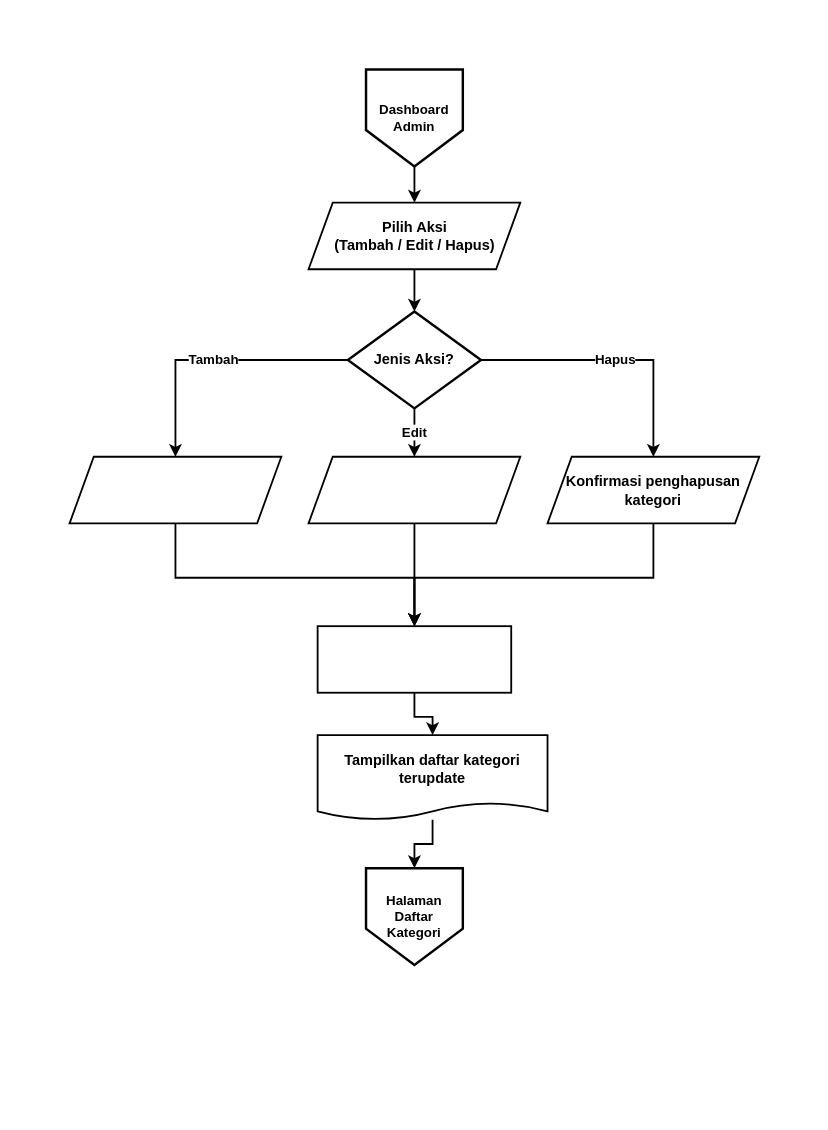
The diagram is 828 pixels wide and 1130 high, and some of its shapes have lost their labels. The centre of each missing label's shape, as x and y in pixels:
"Eksekusi SQL Query (INSERT / UPDATE / DELETE)" belongs at (x=414, y=659).
"Input nama kategori baru dan deskripsi kategori" belongs at (x=175, y=489).
"Ubah nama kategori terkait dan deskripsi kategori" belongs at (x=414, y=489).
